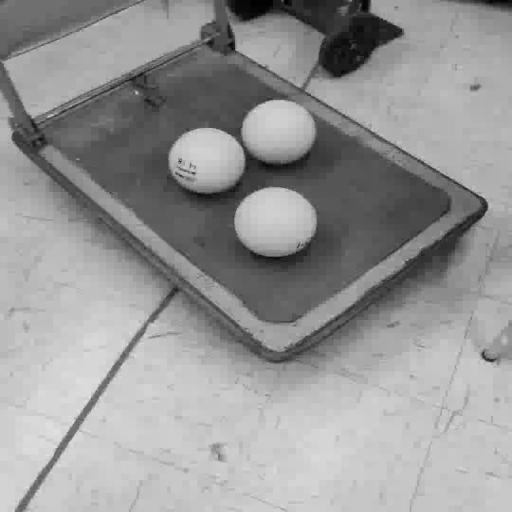fuel: (235, 187, 317, 257), (169, 128, 245, 194), (242, 100, 316, 165)
